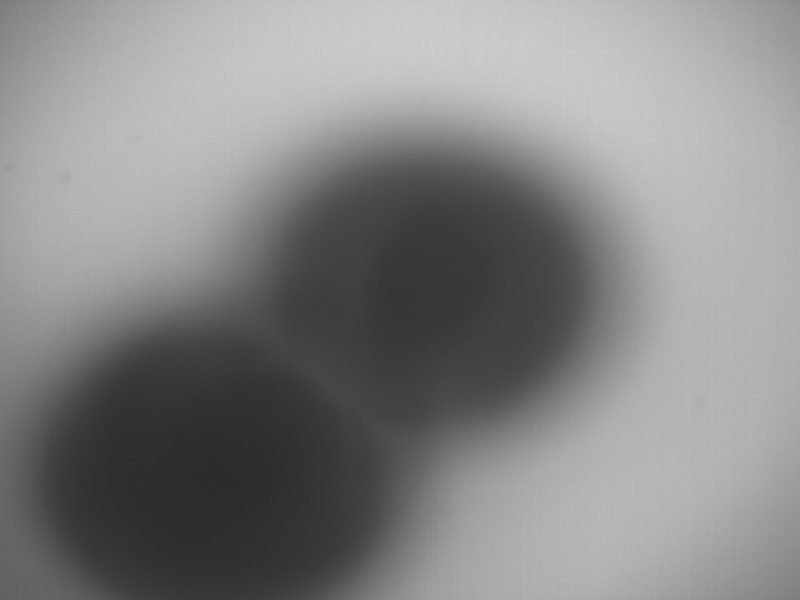bead: (41, 330, 391, 600), (272, 158, 585, 426)
